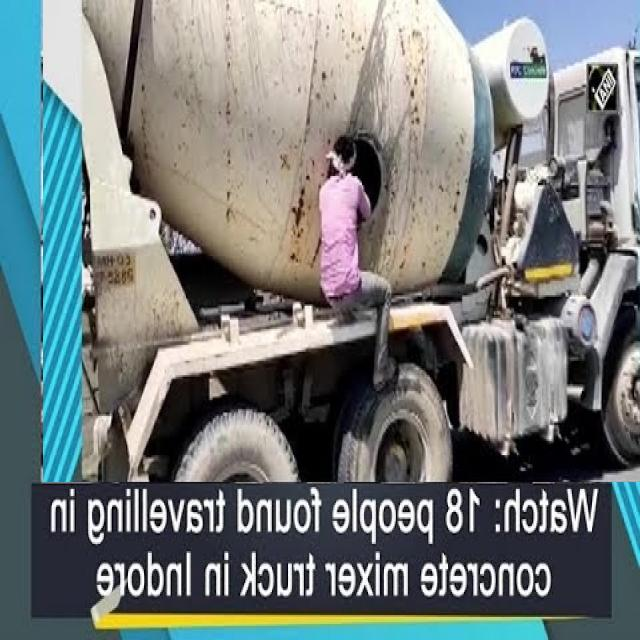truck: (43, 0, 640, 482)
